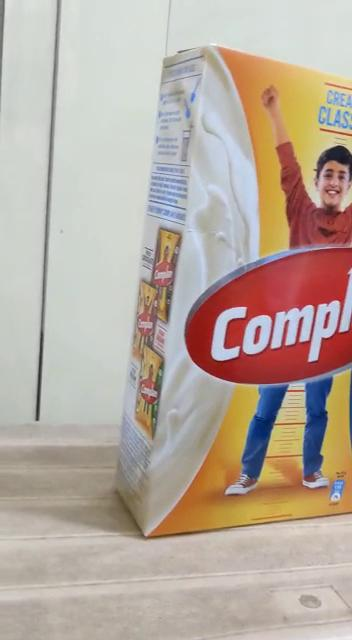Complan Classic Creme: (159, 64, 352, 536)
